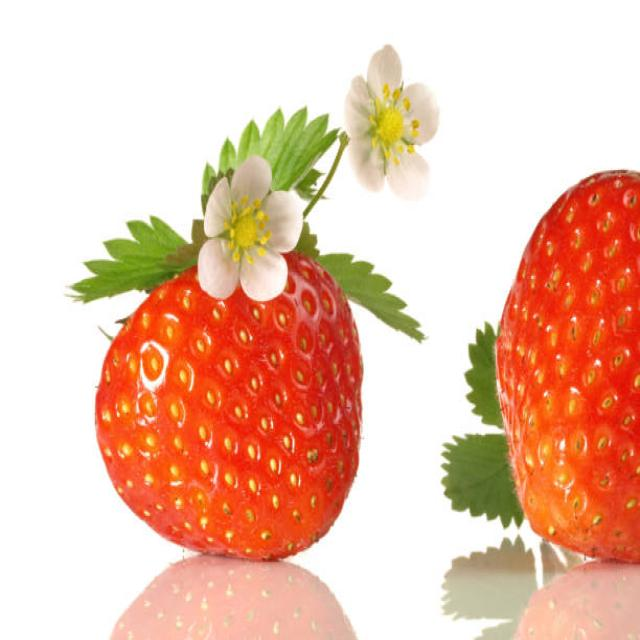Healthy Fruit: (94, 252, 365, 559)
